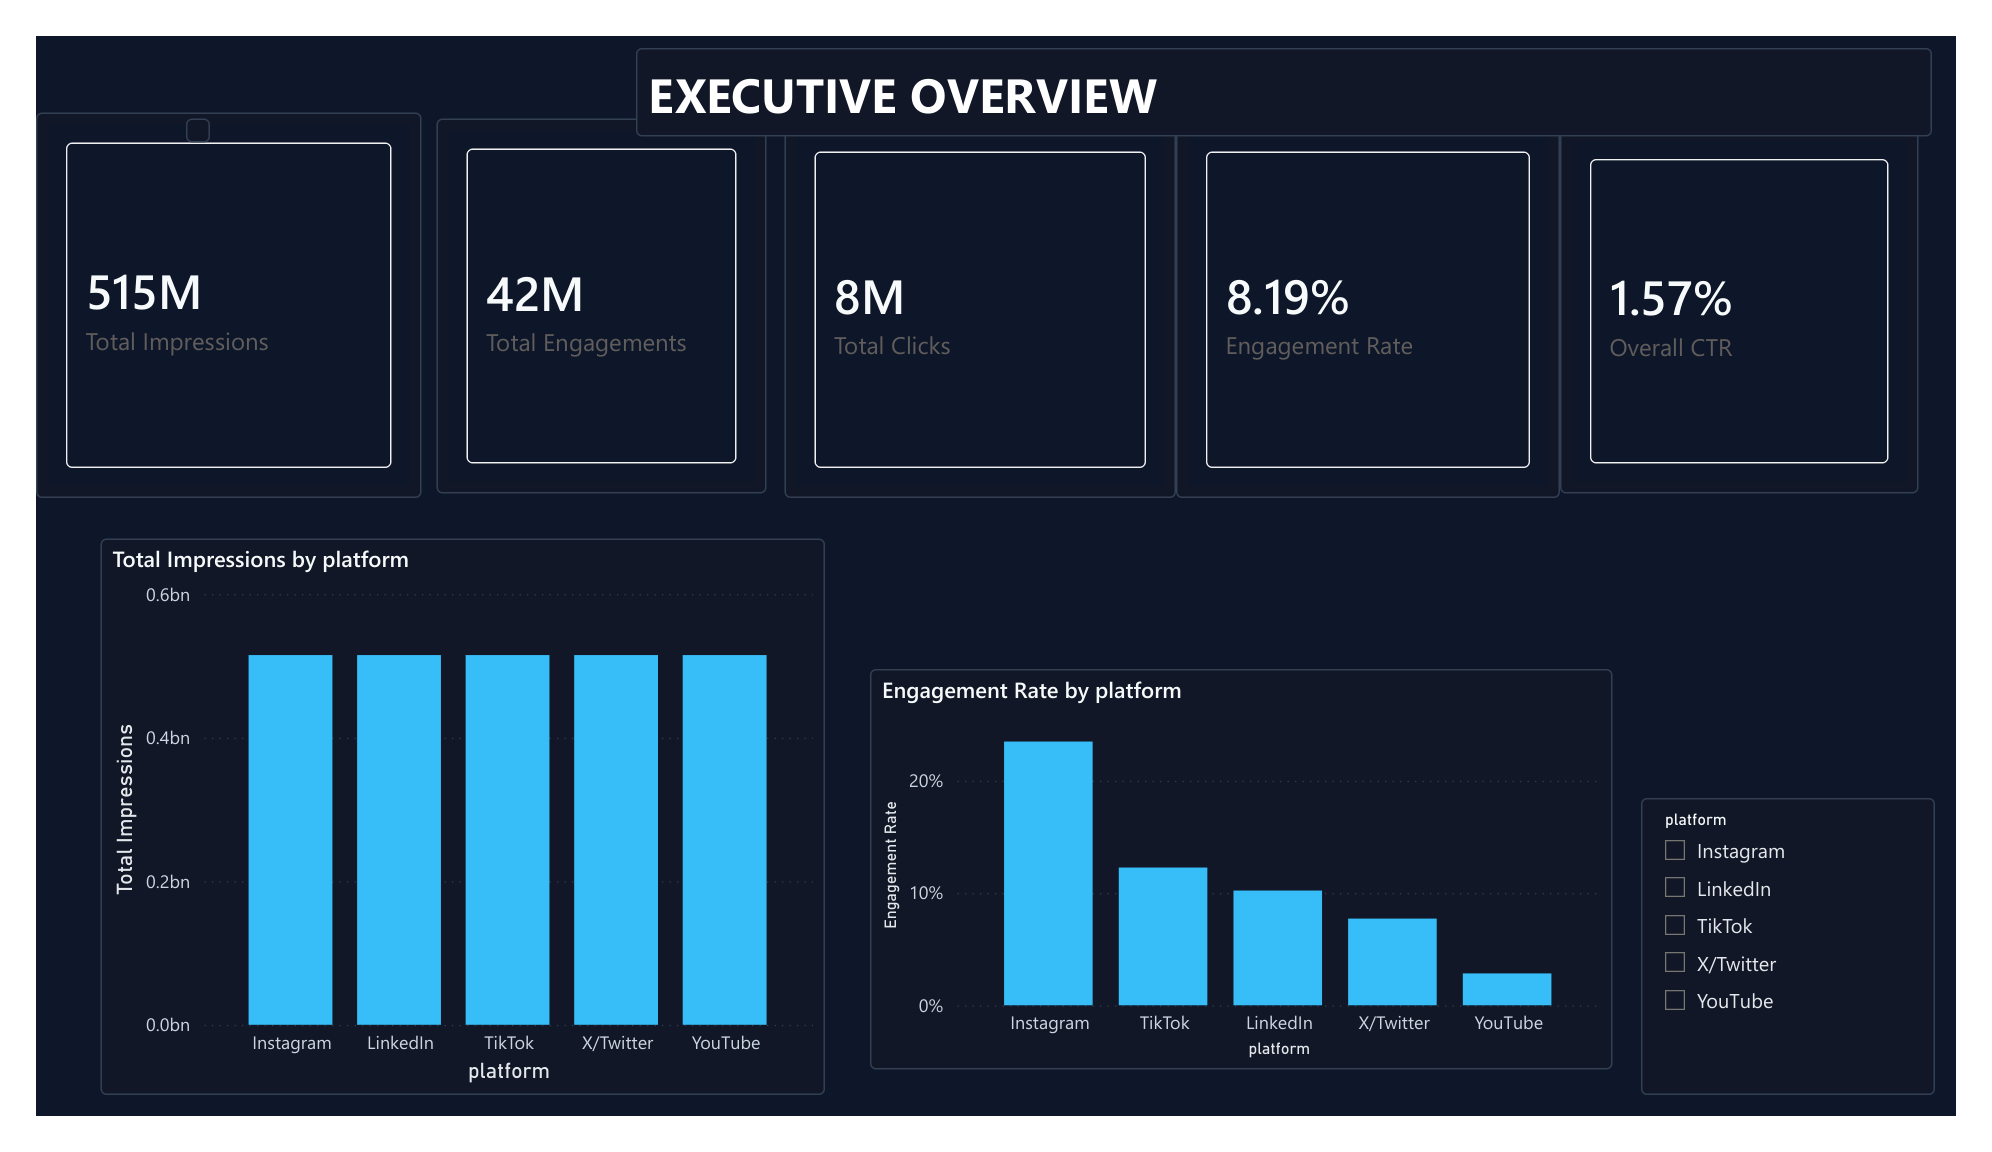

The page's visual inventory and layout, read from the dashboard file:
{"tool":"powerbi","page":{"name":"Executive Overview","canvas":[1280,720],"ordinal":0},"visuals":[{"type":"cardVisual","fields":{"Data":["posts.Total Impressions"]},"box":[0,51.2,280.5,279.3],"z":0},{"type":"cardVisual","fields":{"Data":["posts.Total Engagements"]},"box":[274.4,65.9,252.4,269.5],"z":1000},{"type":"cardVisual","fields":{"Data":["posts.Total Clicks"]},"box":[487.8,57.3,280.5,279.3],"z":2000},{"type":"cardVisual","fields":{"Data":["posts.Overall CTR"]},"box":[1000,56.1,280.5,279.3],"z":3000},{"type":"cardVisual","fields":{"Data":["posts.Engagement Rate"]},"box":[750,57.3,280.5,279.3],"z":4000},{"type":"clusteredColumnChart","fields":{"Category":["ab_tests.platform"],"Y":["posts.Total Impressions"]},"box":[43.3,335.6,381.1,282.2],"z":5000},{"type":"clusteredColumnChart","fields":{"Category":["posts.platform"],"Y":["posts.Engagement Rate"]},"box":[511.1,401.1,388.9,170],"z":6000},{"type":"textbox","box":[1000,401,280,170],"z":7000},{"type":"textbox","box":[100,55.6,300,43.3],"z":8000},{"type":"textbox","box":[400,7.8,864.4,58.9],"z":9000},{"type":"slicer","fields":{"Values":["platforms.platform"]},"box":[942.2,360,150,300],"z":10000}]}

Visuals, with their boxes in screenshot pixels (x1, y1, x2, y2), scaled from the page's 1280x720 canvas onto the 1992x1152 screenshot:
cardVisual - posts.Total Impressions: (x1=0, y1=82, x2=437, y2=529)
cardVisual - posts.Total Engagements: (x1=427, y1=105, x2=820, y2=537)
cardVisual - posts.Total Clicks: (x1=759, y1=92, x2=1196, y2=539)
cardVisual - posts.Overall CTR: (x1=1556, y1=90, x2=1991, y2=537)
cardVisual - posts.Engagement Rate: (x1=1167, y1=92, x2=1604, y2=539)
clusteredColumnChart - ab_tests.platform x posts.Total Impressions: (x1=67, y1=537, x2=660, y2=988)
clusteredColumnChart - posts.platform x posts.Engagement Rate: (x1=795, y1=642, x2=1401, y2=914)
textbox: (x1=1556, y1=642, x2=1991, y2=914)
textbox: (x1=156, y1=89, x2=622, y2=158)
textbox: (x1=622, y1=12, x2=1968, y2=107)
slicer - platforms.platform: (x1=1466, y1=576, x2=1700, y2=1056)
